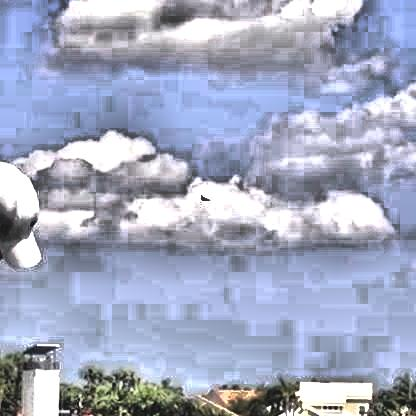golfball: (200, 191, 211, 204)
